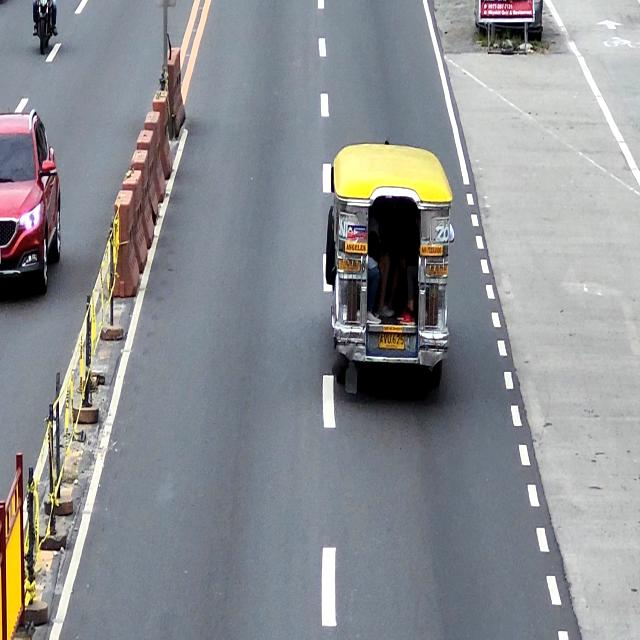Car: (0, 110, 62, 300)
Jeep: (327, 142, 452, 395)
License-Plate: (378, 333, 406, 350)
